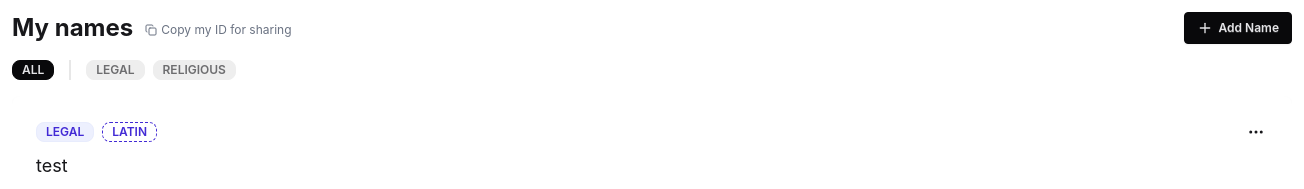
Scenario: MyNames › shows a filtered empty state when no names match the selected filters
What coordinates should you click on to do the following:
click the button "RELIGIOUS"
I would click on:
 (194, 70)
Its box is [152, 60, 236, 80].
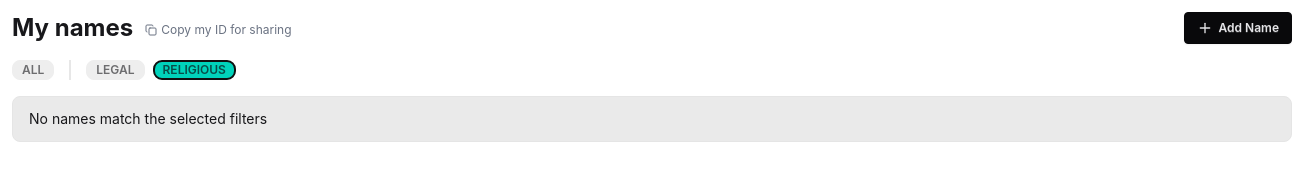
Expected: the message reads "No names match the selected filters", [29, 110, 267, 127]
